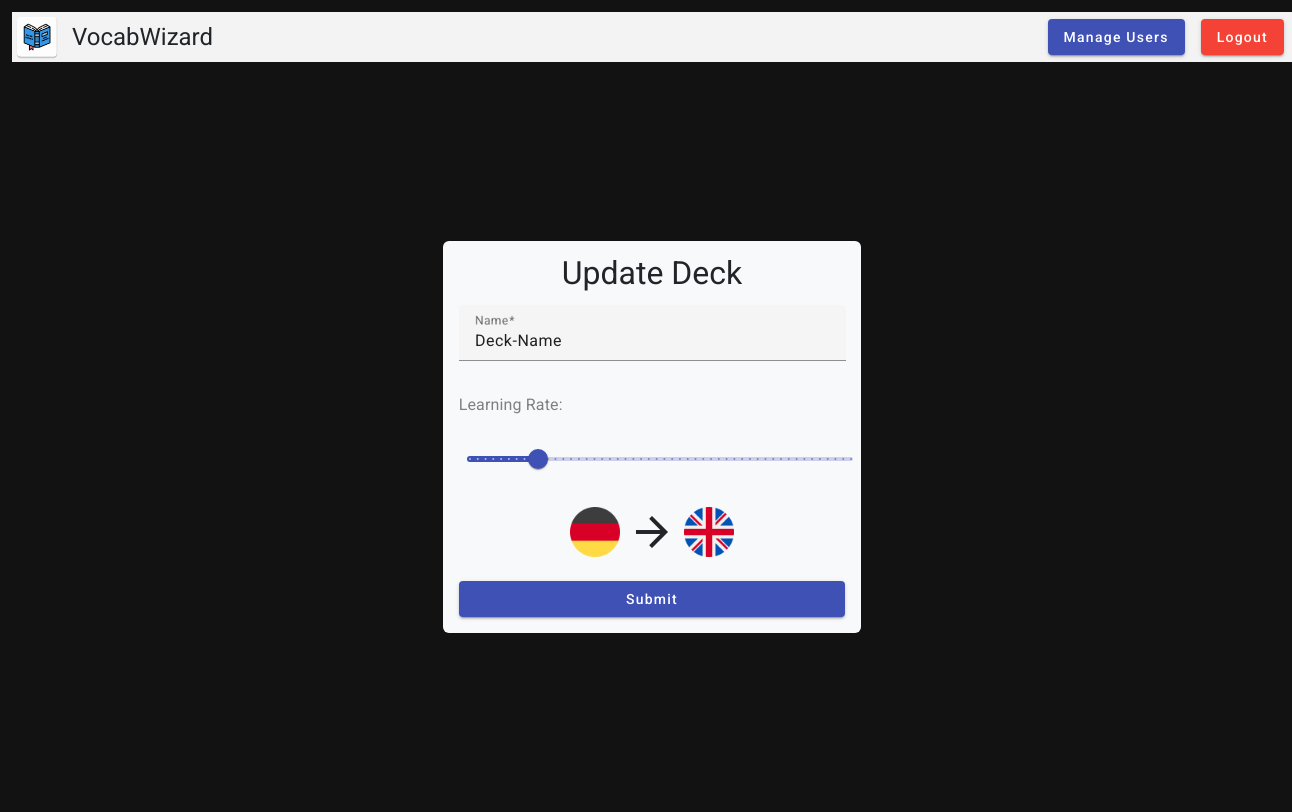
it: Form Validation › should show min-4-characters error message if name is too short
The image size is (1292, 812).
Replace the text in the field with test id "update-deck-name-input-field" with "abc": point(653, 341) [475,329,830,353]
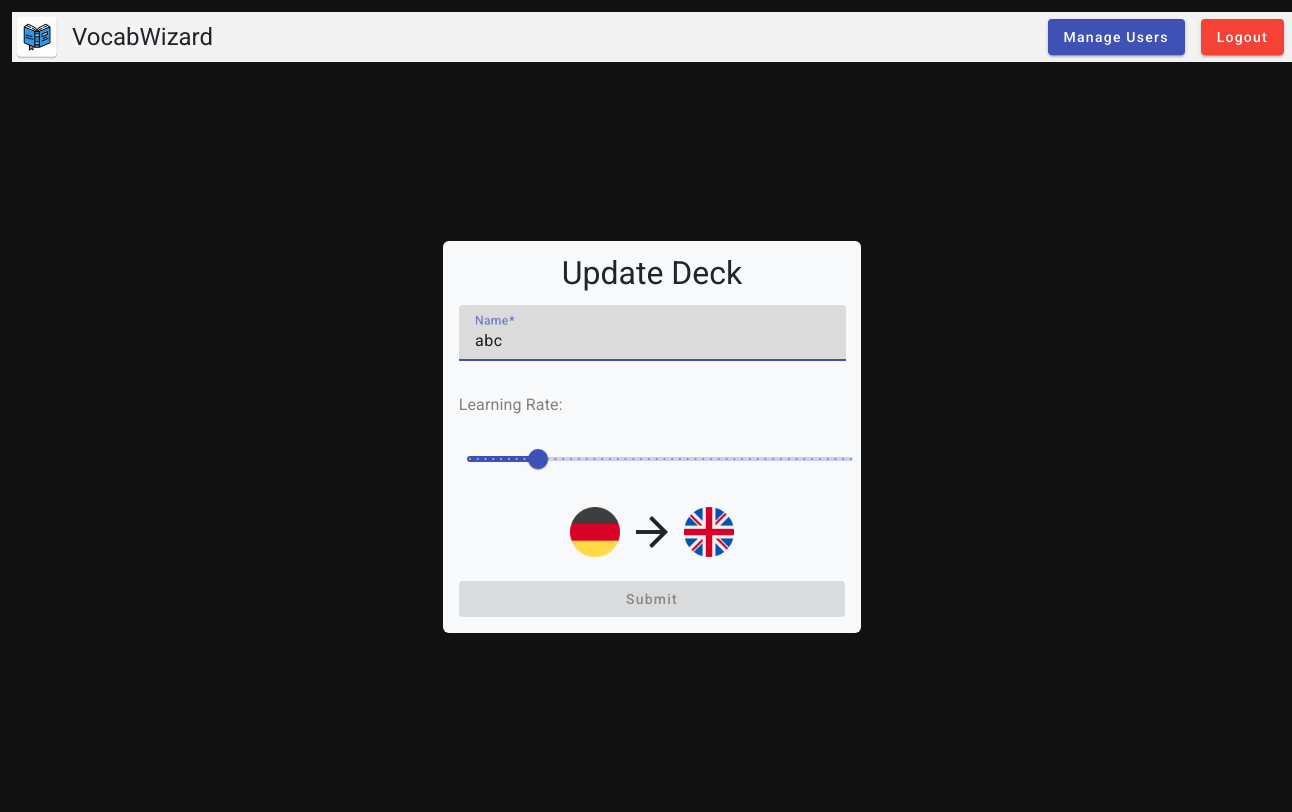
Leave the field with test id "update-deck-name-input-field", box [475,329,830,353]
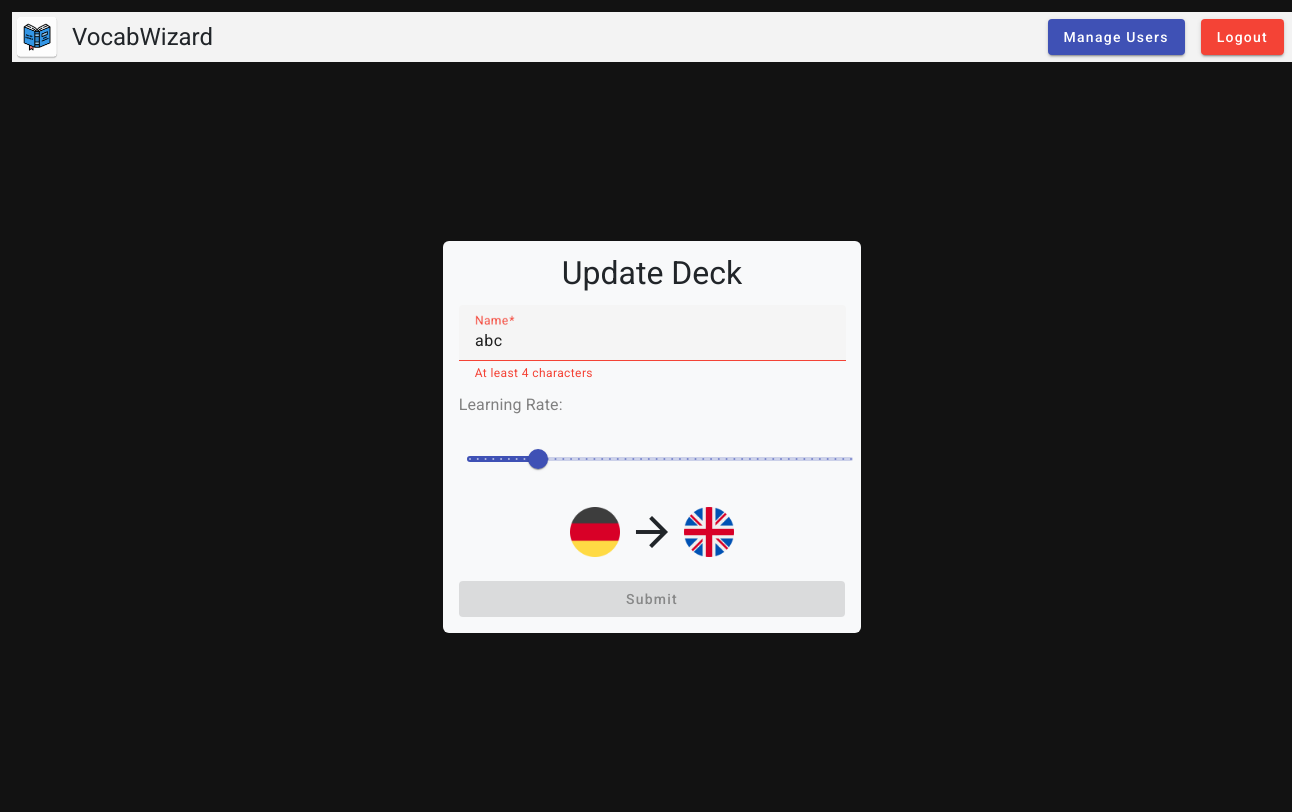
Expected: the text with test id "update-deck-name-mat-error" reads "At least 4 characters", [475,366,593,380]
